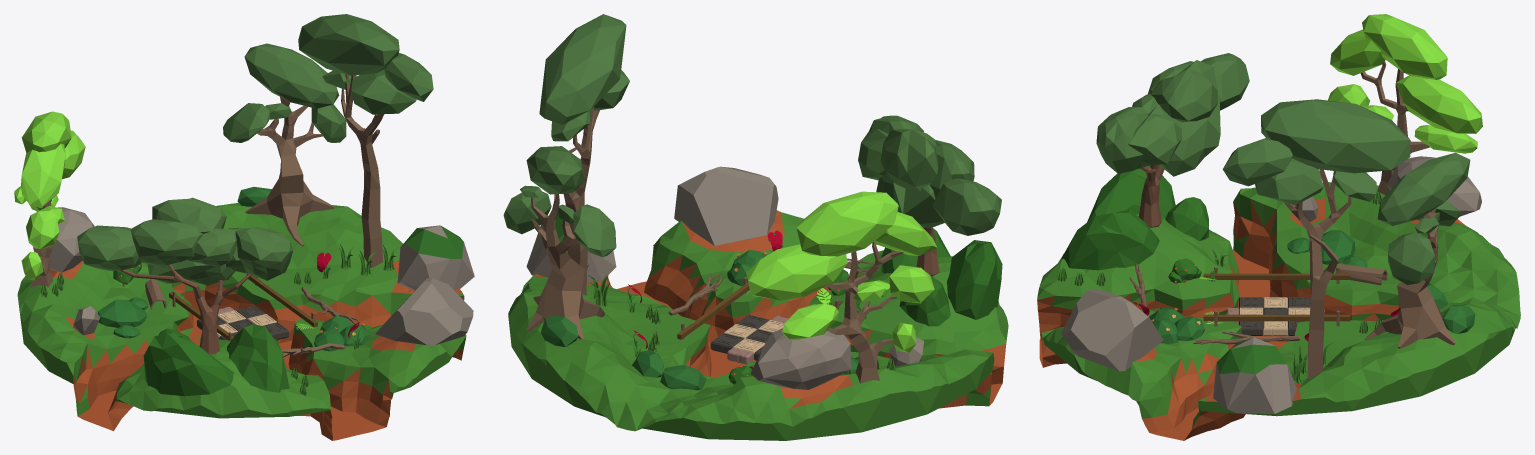
The model's file is isla_final.fbx.
3 renders of one model, left to right at view 1: azimuth 30°, elevation 25°; view 2: azimuth 150°, elevation 25°; view 3: azimuth 270°, elevation 25°, orthographic. The views are drawn at different scales.
Parts seen in each view (by area): view 1: isla, Tree2.000, follaje1, arbusto.001, follaje1.001, follaje4, Stone3.001, tronco1.001, roca1, tronco1, roca, Bush1.000 (+5 smaller); view 2: isla, follaje4, Tree2.000, follaje1, Stone3.001, follaje1.001, arbusto.001, roca, tronco1.001, tronco4, tronco1, roca1 (+6 smaller); view 3: isla, follaje1, Tree2.000, follaje4, arbusto.001, follaje1.001, Stone3.001, roca1, tronco1, tronco1.001, Bush2.000, roca (+8 smaller).
Boxes of the visible parts, x1=… form: isla: x1=17, y1=203, x2=466, y2=440; Tree2.000: x1=77, y1=197, x2=292, y2=354; follaje1: x1=298, y1=14, x2=433, y2=114; arbusto.001: x1=143, y1=324, x2=289, y2=396; follaje1.001: x1=223, y1=43, x2=346, y2=142; follaje4: x1=14, y1=111, x2=85, y2=280; Stone3.001: x1=375, y1=278, x2=473, y2=345; tronco1.001: x1=245, y1=97, x2=333, y2=246; roca1: x1=397, y1=225, x2=474, y2=290; tronco1: x1=341, y1=74, x2=383, y2=267; roca: x1=33, y1=207, x2=94, y2=272; Bush1.000: x1=98, y1=297, x2=148, y2=338; isla: x1=508, y1=210, x2=1008, y2=440; follaje4: x1=746, y1=191, x2=937, y2=352; Tree2.000: x1=858, y1=115, x2=1001, y2=276; follaje1: x1=539, y1=14, x2=629, y2=141; Stone3.001: x1=674, y1=166, x2=778, y2=245; follaje1.001: x1=503, y1=146, x2=616, y2=257; arbusto.001: x1=881, y1=228, x2=1002, y2=326; roca: x1=750, y1=328, x2=851, y2=389; tronco1.001: x1=526, y1=194, x2=604, y2=339; tronco4: x1=826, y1=242, x2=903, y2=383; tronco1: x1=563, y1=106, x2=599, y2=295; roca1: x1=526, y1=214, x2=616, y2=282; isla: x1=1037, y1=182, x2=1520, y2=440; follaje1: x1=1222, y1=99, x2=1410, y2=205; Tree2.000: x1=1096, y1=53, x2=1249, y2=227; follaje4: x1=1328, y1=14, x2=1482, y2=153; arbusto.001: x1=1062, y1=165, x2=1208, y2=270; follaje1.001: x1=1377, y1=152, x2=1470, y2=285; Stone3.001: x1=1061, y1=289, x2=1163, y2=371; roca1: x1=1213, y1=337, x2=1296, y2=413; tronco1: x1=1283, y1=169, x2=1351, y2=379; tronco1.001: x1=1365, y1=208, x2=1455, y2=348; Bush2.000: x1=1149, y1=307, x2=1204, y2=343; roca: x1=1387, y1=156, x2=1481, y2=216.
Size of the model in its own units: 1045 by 715 by 990.
